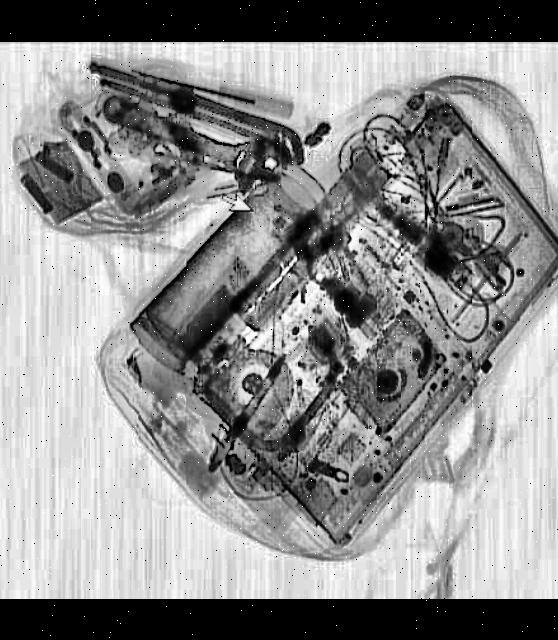Wrench: (92, 79, 298, 205)
